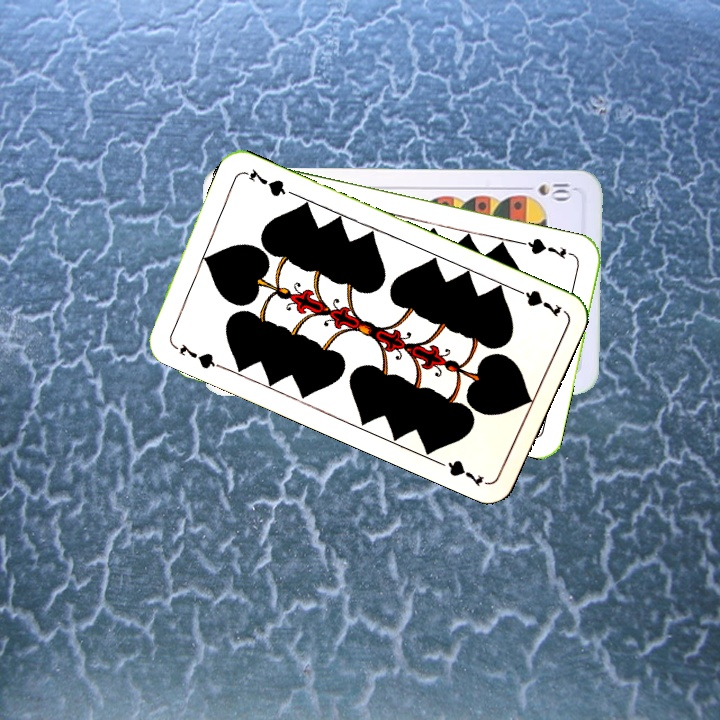G7: (509, 283, 564, 320), (168, 339, 224, 372), (518, 234, 577, 262)
S10: (518, 179, 574, 202)
